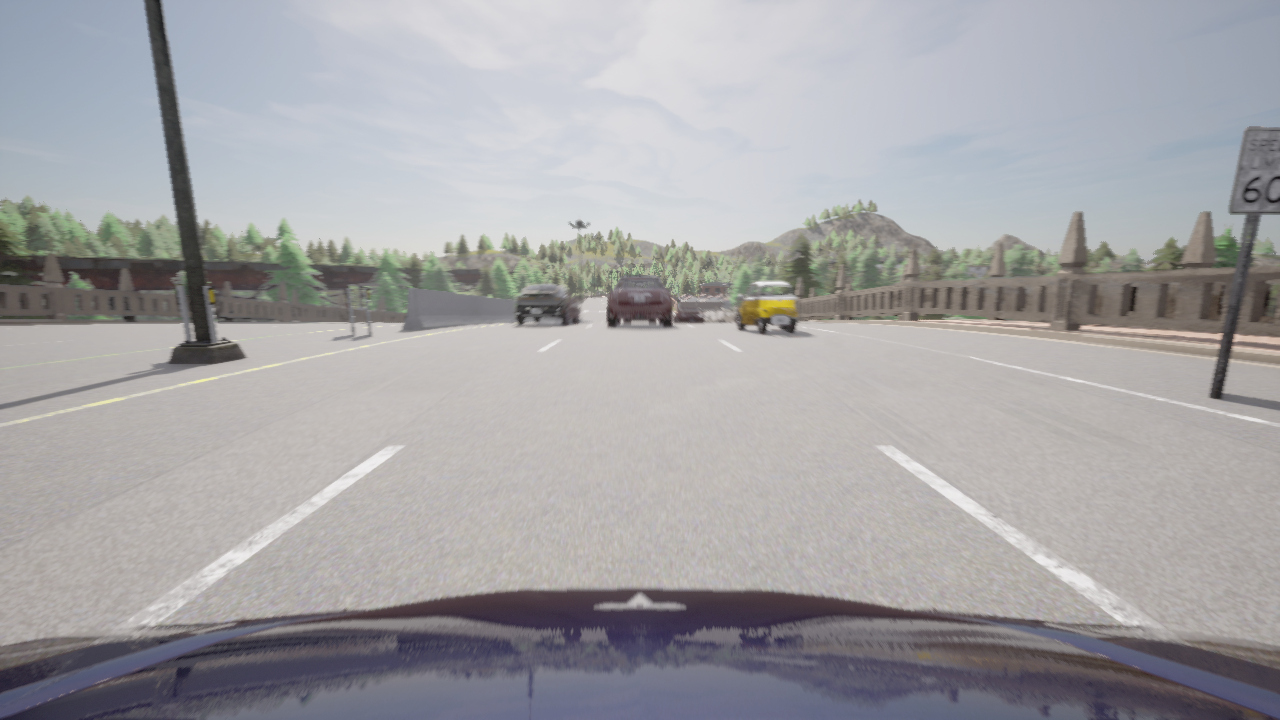cyclist: (0, 588, 1279, 719), (607, 275, 672, 326), (737, 281, 797, 333), (515, 284, 579, 324), (674, 307, 705, 322), (624, 319, 655, 322)
